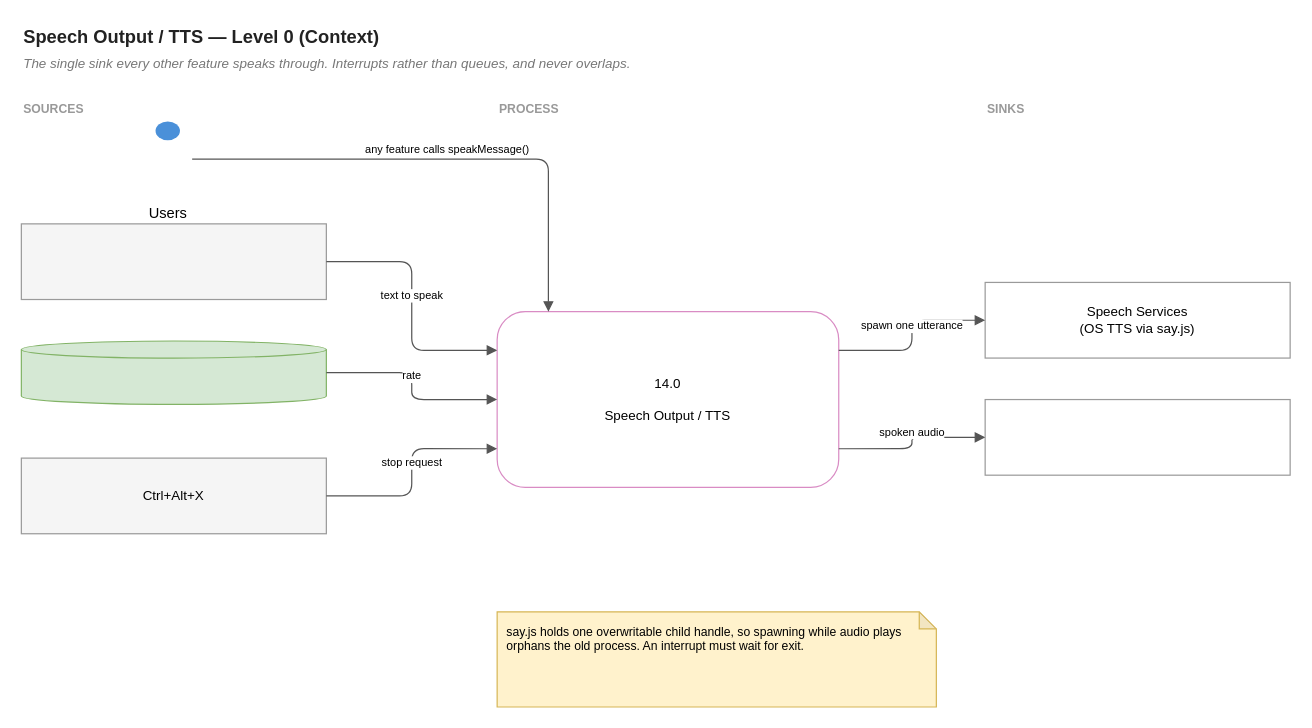
Image size: 1312x728. Some labels were removed from this diagram. The shapes that lost their labels are listed below. From the top down, each one's centre as x and y in pixels, then its label:
At (173,261): "116 call sites (26 modules)".
At (173,372): "Speech speed setting".
At (1137,436): "Audio output".
